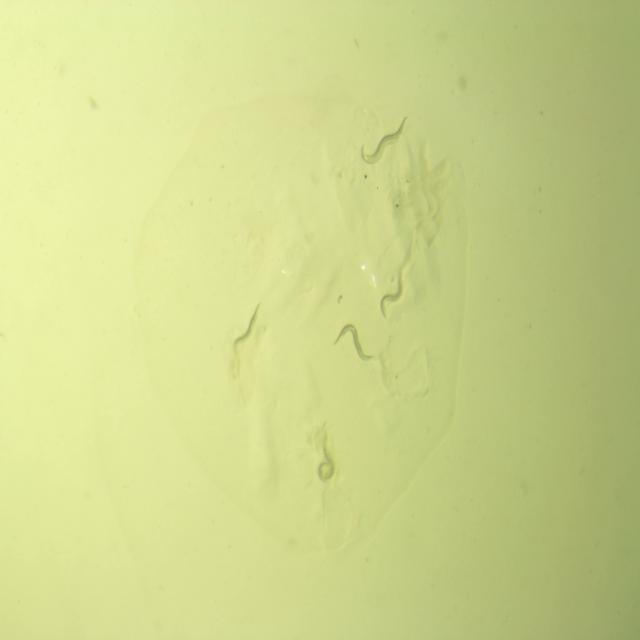worm: (329, 318, 378, 367), (360, 112, 410, 160), (358, 125, 405, 172), (232, 301, 268, 355), (374, 267, 406, 322), (312, 429, 338, 488)
